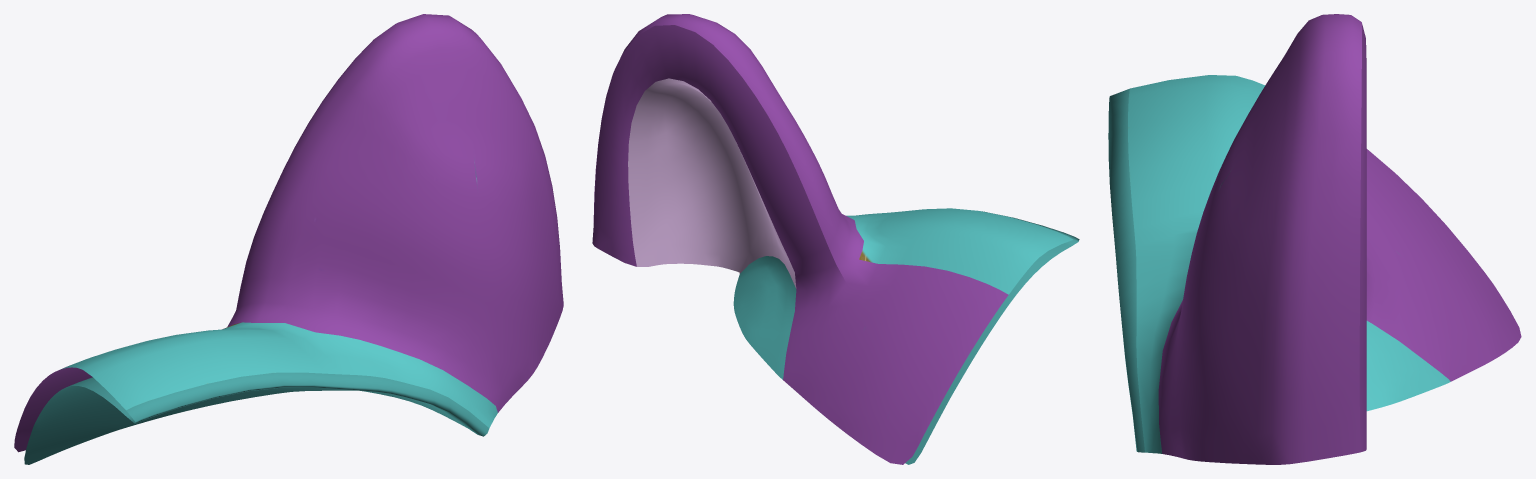
Rendered from shard1.fbx.
The picture shows the model from 3 angles, left to right: view 1: azimuth 30°, elevation 25°; view 2: azimuth 150°, elevation 25°; view 3: azimuth 270°, elevation 25°; orthographic projection. The views are drawn at different scales.
Parts seen in each view (by area): view 1: U_EnemyShard01; view 2: U_EnemyShard01; view 3: U_EnemyShard01.
Part boxes in pixels (x1=…): U_EnemyShard01: x1=14, y1=14, x2=563, y2=464; U_EnemyShard01: x1=592, y1=14, x2=1079, y2=464; U_EnemyShard01: x1=1108, y1=14, x2=1521, y2=464.
Bounding box in the file's own units: 0.9857 × 0.7737 × 0.5653.
